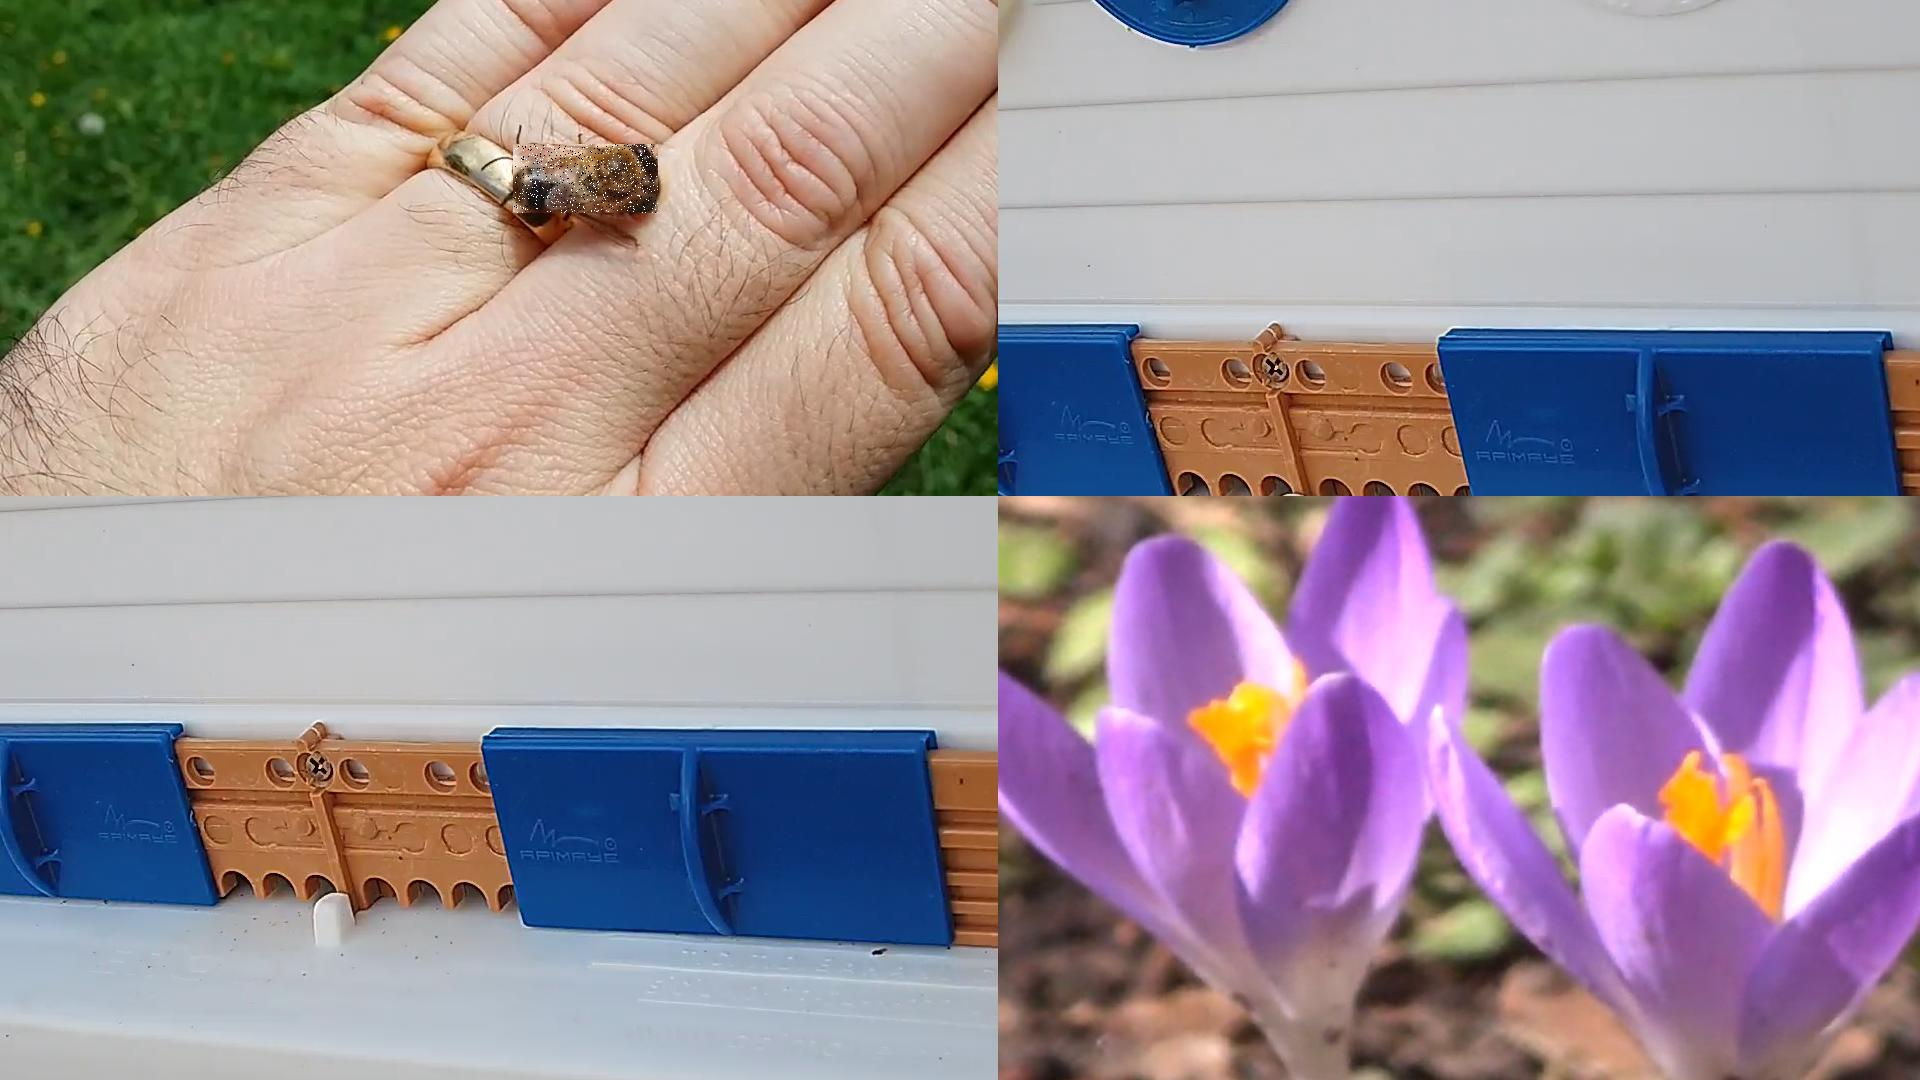drone: (513, 144, 659, 214)
